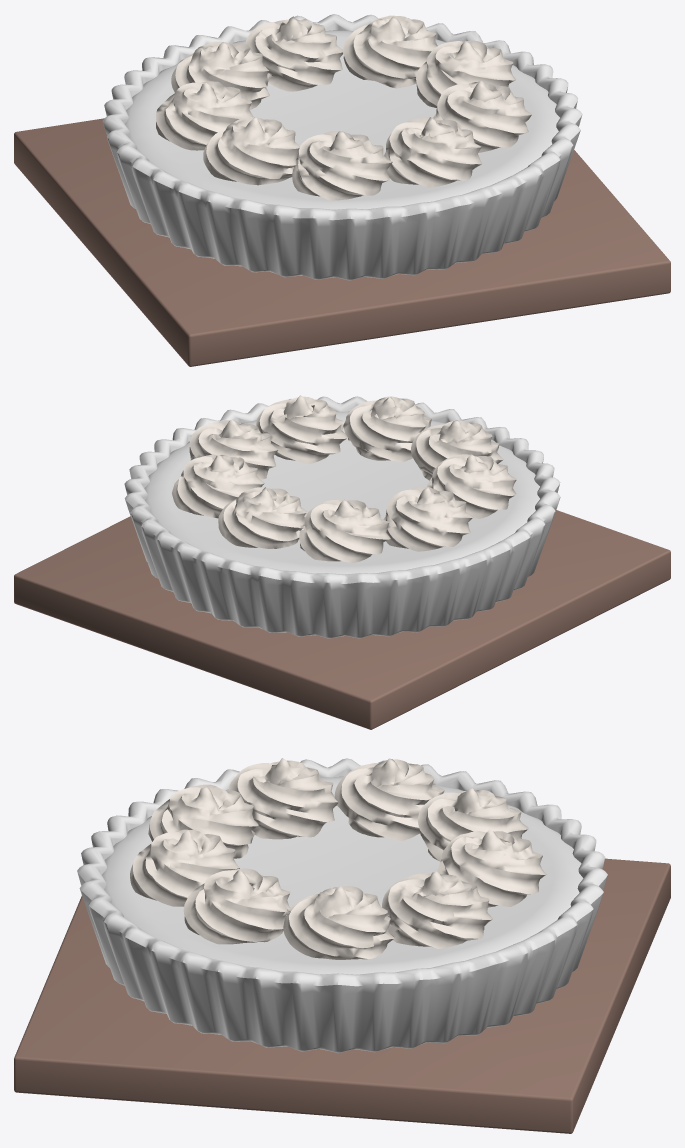
The model's file is PumpkinPie.dae.
3 views of the same model, one above another, from view 1: azimuth 30°, elevation 25°; view 2: azimuth 150°, elevation 25°; view 3: azimuth 270°, elevation 25° (orthographic). The views are drawn at different scales.
Parts seen in each view (by area): view 1: Pumkin_Pie_Side; view 2: Pumkin_Pie_Side; view 3: Pumkin_Pie_Side.
Part boxes in pixels (x1=…): Pumkin_Pie_Side: x1=14, y1=14, x2=670, y2=366; Pumkin_Pie_Side: x1=14, y1=395, x2=670, y2=729; Pumkin_Pie_Side: x1=14, y1=758, x2=670, y2=1133.
Bounding box in the file's own units: 231 × 231 × 68.62.
